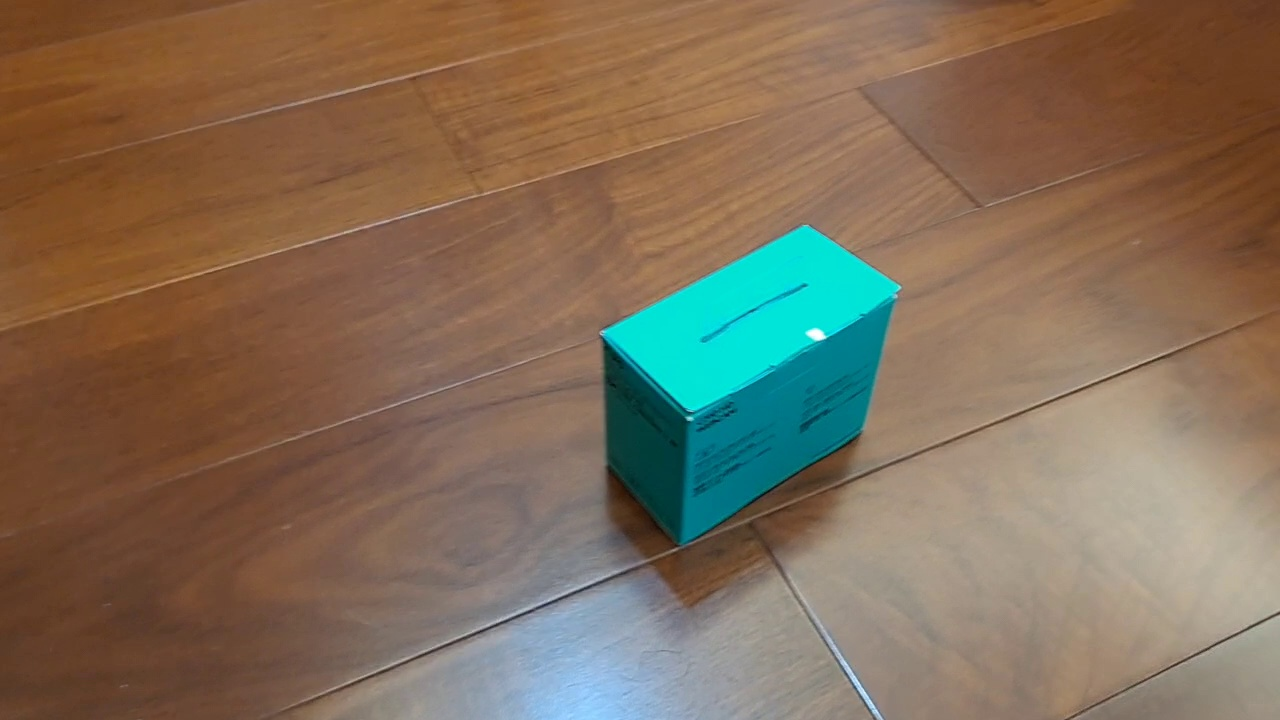webcam: (597, 222, 904, 549)
